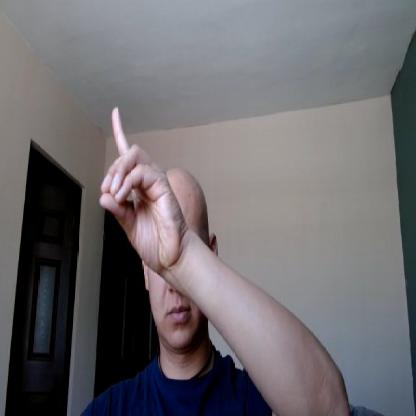D: (98, 105, 186, 276)
